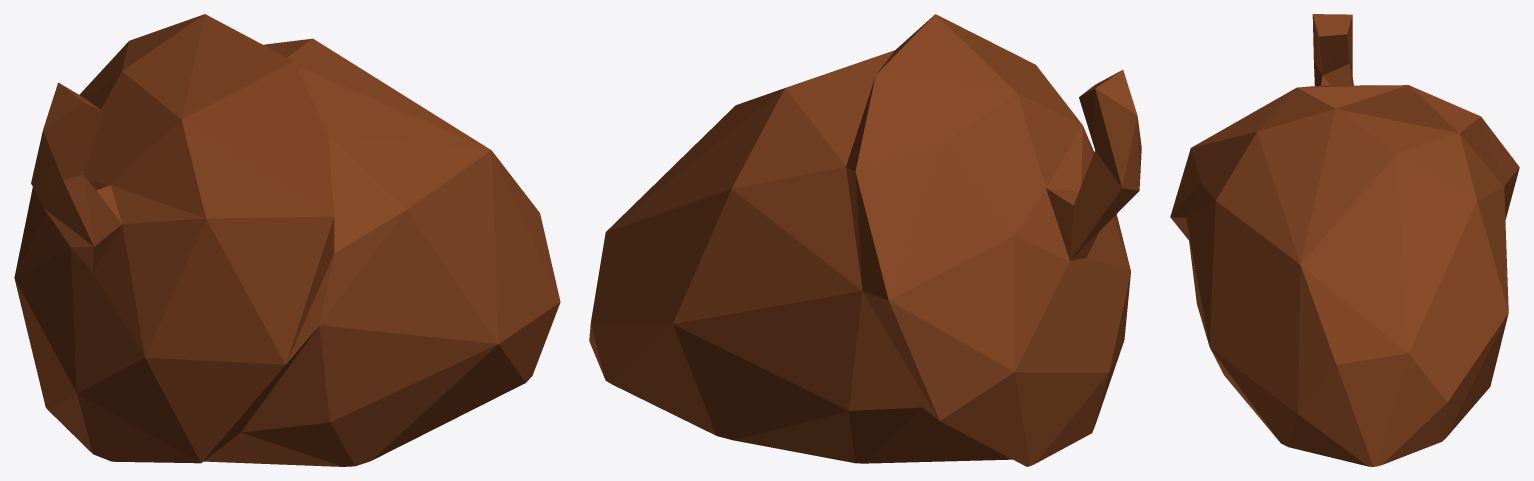
The model's file is Low_Poly_Acorn.glb.
The picture shows the model from 3 angles, left to right: view 1: azimuth 30°, elevation 25°; view 2: azimuth 150°, elevation 25°; view 3: azimuth 270°, elevation 25°; orthographic projection. The views are drawn at different scales.
Parts seen in each view (by area): view 1: node_id3; view 2: node_id3; view 3: node_id3.
Part boxes in pixels (x1,y1,x2,y2): node_id3: [14, 14, 560, 466]; node_id3: [589, 14, 1141, 466]; node_id3: [1170, 14, 1519, 466].
Size of the model in its own units: 0.5107 by 0.3448 by 0.3928.
Materials: 1 (1 with a texture image).
